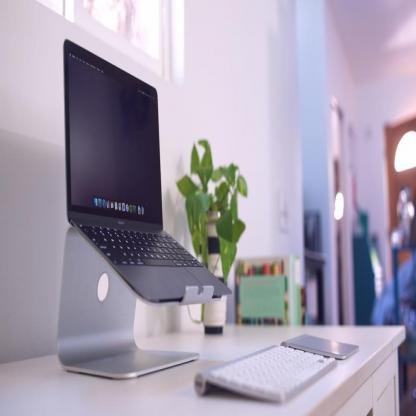board: (63, 38, 230, 306)
